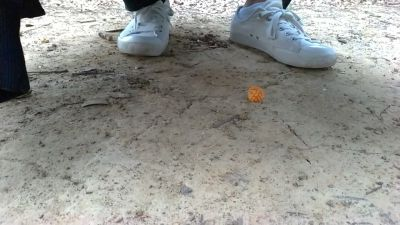eggs: (246, 83, 268, 103)
